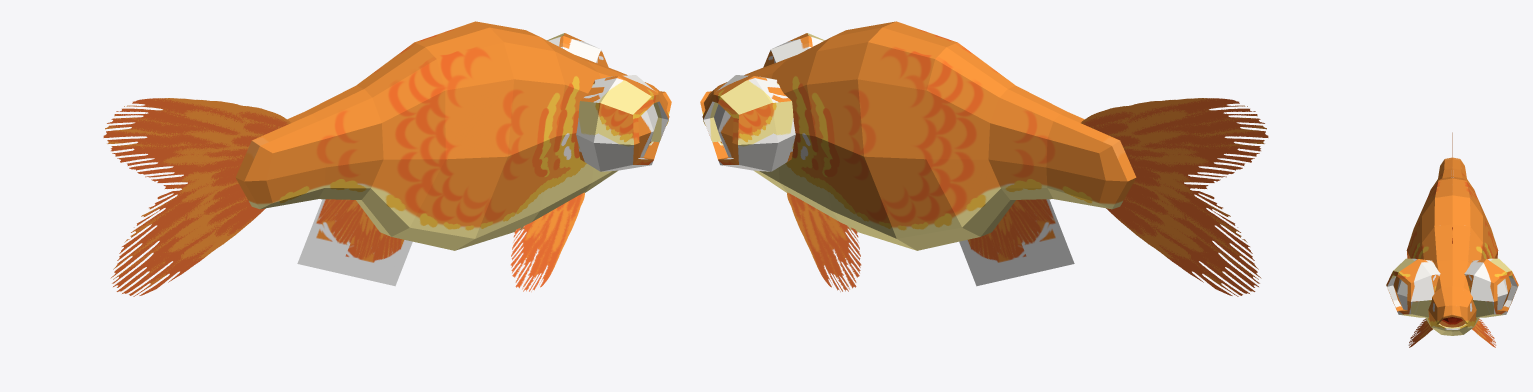
File: fishmodel.fbx
3 views of the same model, side by side, from view 1: azimuth 30°, elevation 25°; view 2: azimuth 150°, elevation 25°; view 3: azimuth 270°, elevation 25° (orthographic). The views are drawn at different scales.
Parts seen in each view (by area): view 1: FishBody, FishTail, FishBigFin, FishSmallFins; view 2: FishBody, FishTail, FishBigFin, FishSmallFins; view 3: FishBody, FishSmallFins.
Part boxes in pixels (x1,y1,x2,y2): FishBody: (235,21,671,250); FishTail: (103,98,290,296); FishBigFin: (297,199,412,286); FishSmallFins: (510,192,584,292); FishBody: (700,21,1136,250); FishTail: (1081,98,1268,296); FishBigFin: (959,199,1074,286); FishSmallFins: (787,192,861,292); FishBody: (1386,157,1518,335); FishSmallFins: (1408,319,1496,347).
Bounding box in the file's own units: 547 × 255 × 156.
5 materials, 5 textured.
